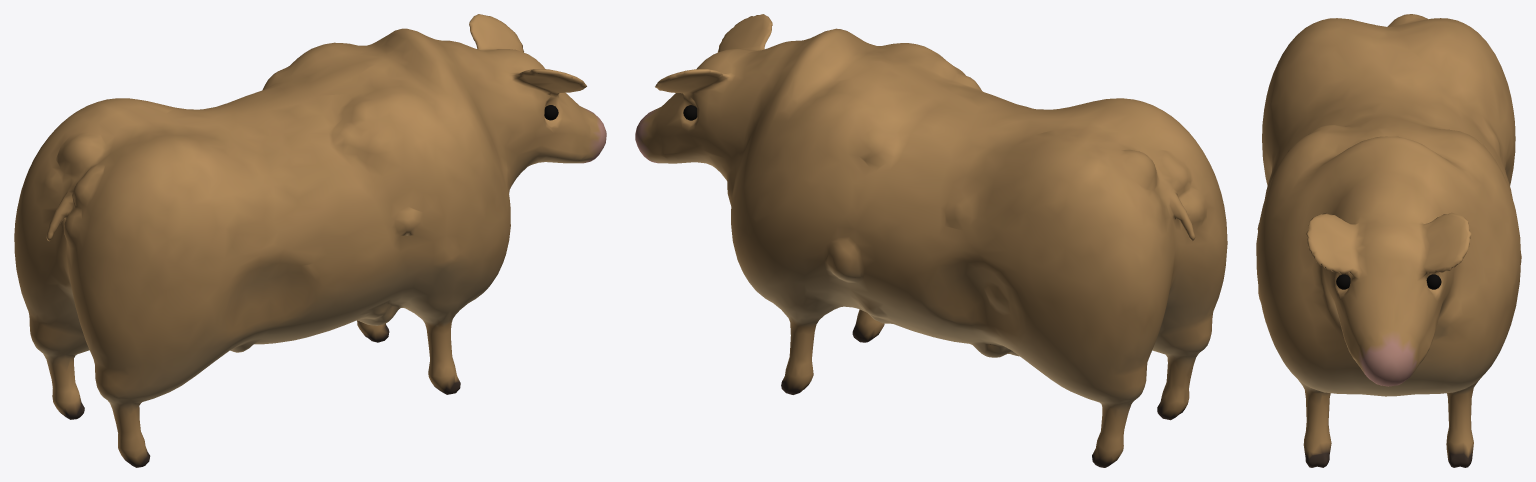
The model's file is pig.glb.
The picture shows the model from 3 angles, left to right: view 1: azimuth 30°, elevation 25°; view 2: azimuth 150°, elevation 25°; view 3: azimuth 270°, elevation 25°; orthographic projection.
Visible parts, largest first — view 1: pig; view 2: pig; view 3: pig.
Boxes of the visible parts, box(x1,y1,x2,y2) form: pig: box(14, 14, 606, 467); pig: box(635, 14, 1227, 467); pig: box(1256, 14, 1521, 467).
Bounding box in the file's own units: 1.4 × 0.7981 × 0.581.
